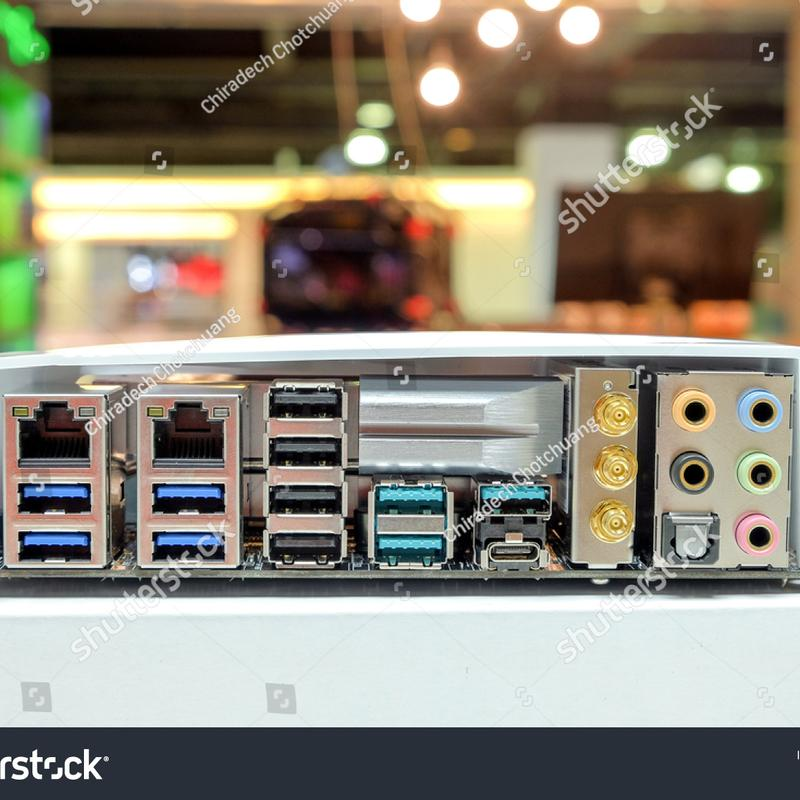AUDIO: (731, 377, 792, 436)
AUDIO_INPUT: (726, 443, 792, 498)
AUDIO_OUTPUT: (721, 504, 792, 560)
ETHERNET: (6, 395, 107, 467), (140, 396, 235, 466)
USB: (254, 372, 351, 425), (474, 478, 560, 527), (145, 474, 232, 521), (8, 475, 101, 516), (264, 431, 349, 473), (375, 479, 453, 522), (265, 525, 346, 566), (376, 526, 449, 570), (7, 527, 97, 562), (266, 479, 344, 518), (146, 529, 230, 562)
USBC: (479, 534, 552, 575)
